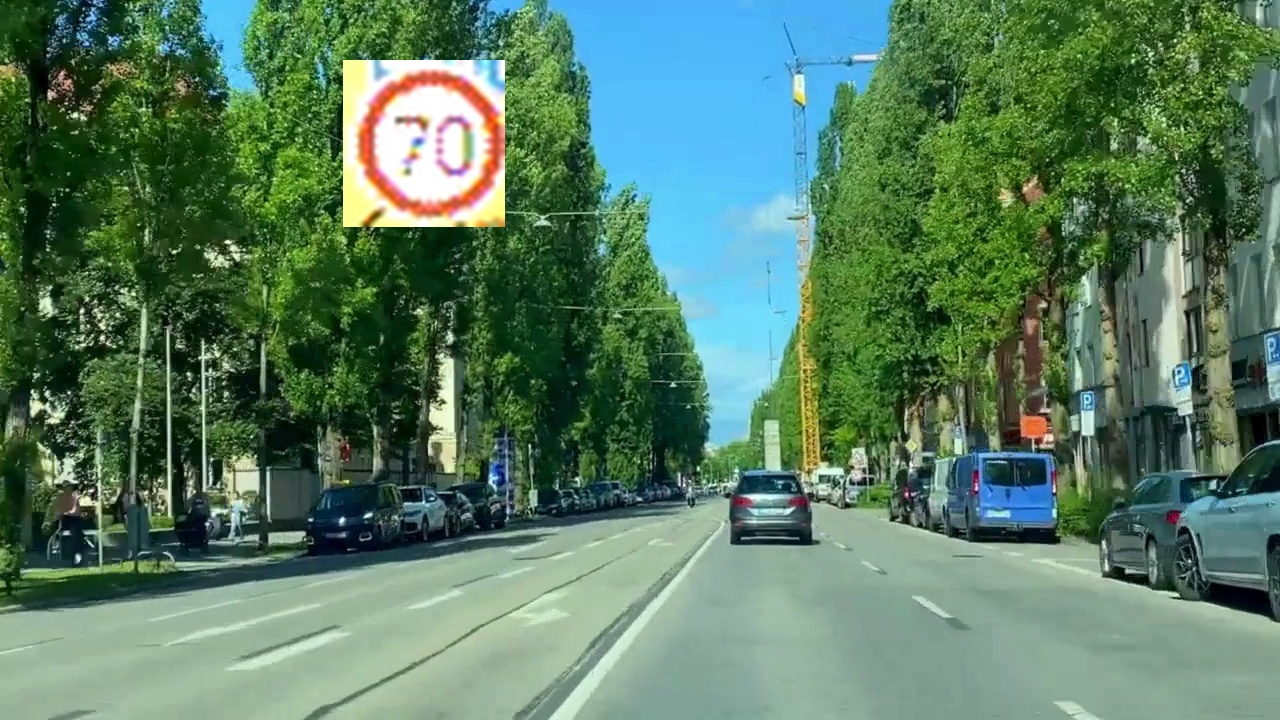Speed 70: (343, 60, 505, 227)
